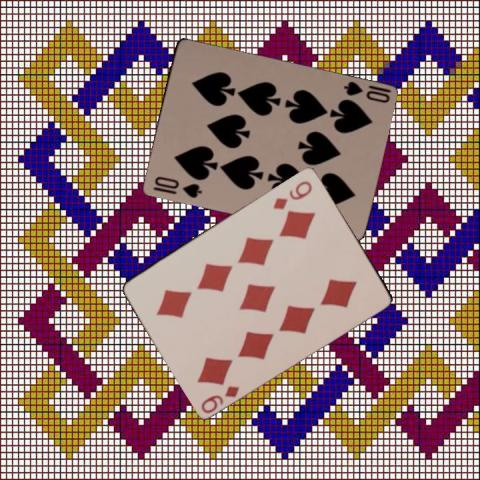10s: (151, 173, 202, 200), (340, 78, 391, 104)
9d: (270, 177, 314, 211), (198, 382, 241, 415)
